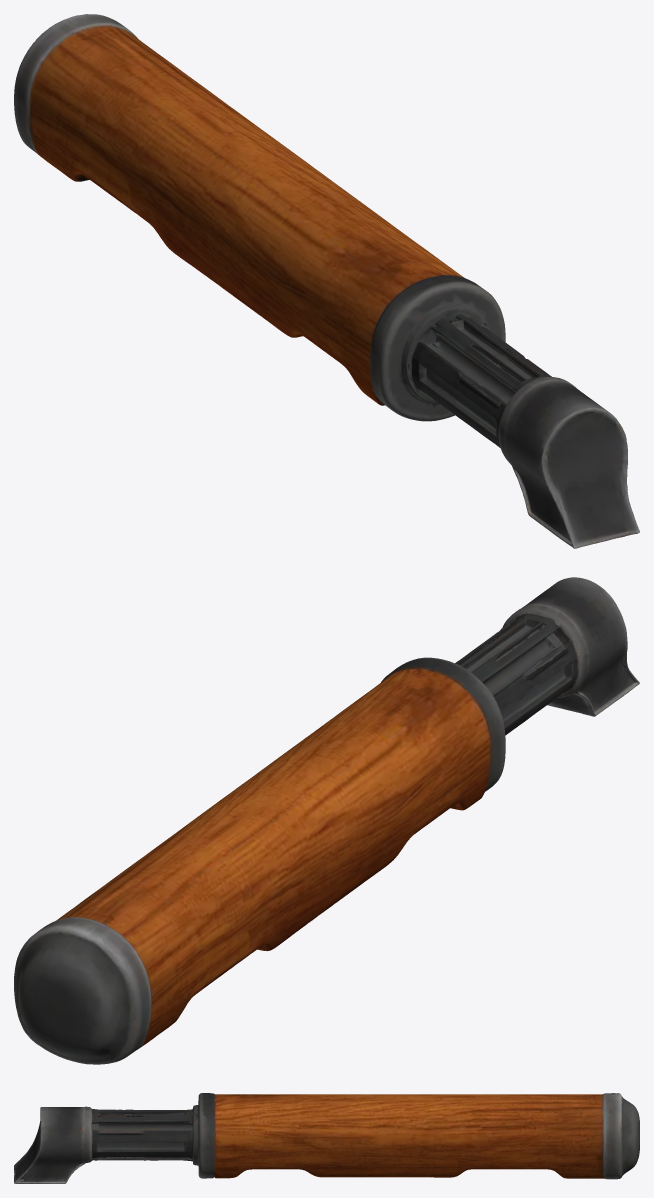
File: gastube.glb
3 views of the same model, one above another, from view 1: azimuth 30°, elevation 25°; view 2: azimuth 150°, elevation 25°; view 3: azimuth 270°, elevation 25° (orthographic). The views are drawn at different scales.
Visible parts, largest first — view 1: geometry_0; view 2: geometry_0; view 3: geometry_0.
Part boxes in pixels (x1,y1,x2,y2): geometry_0: (14,14,639,548); geometry_0: (14,577,639,1064); geometry_0: (14,1093,639,1183).
Size of the model in its own units: 0.1315 by 0.1374 by 1.
Materials: 1 (1 with a texture image).
